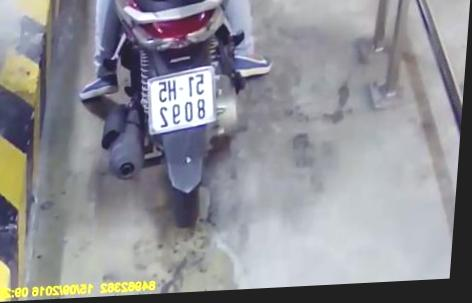License_Plate: (142, 62, 223, 139)
